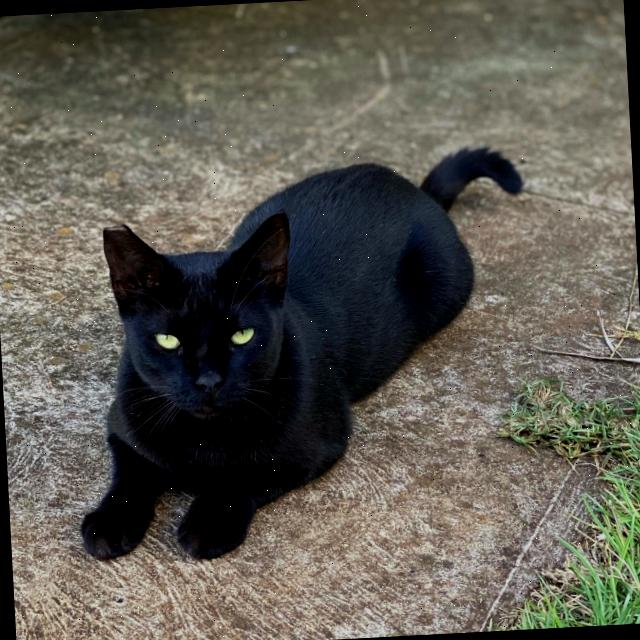domestic_short_hair_cat: (96, 198, 312, 445)
